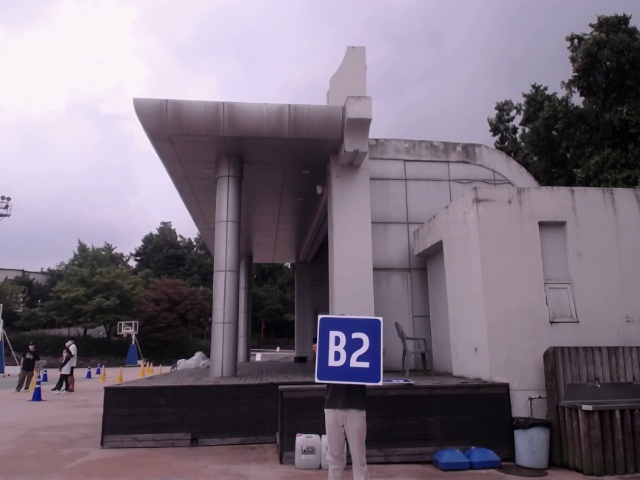delivery_b2: (317, 314, 382, 385)
